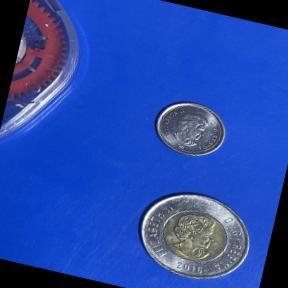Canada-10cent-B: (139, 88, 240, 174)
Canada-2Dollar-B: (124, 179, 262, 288)
